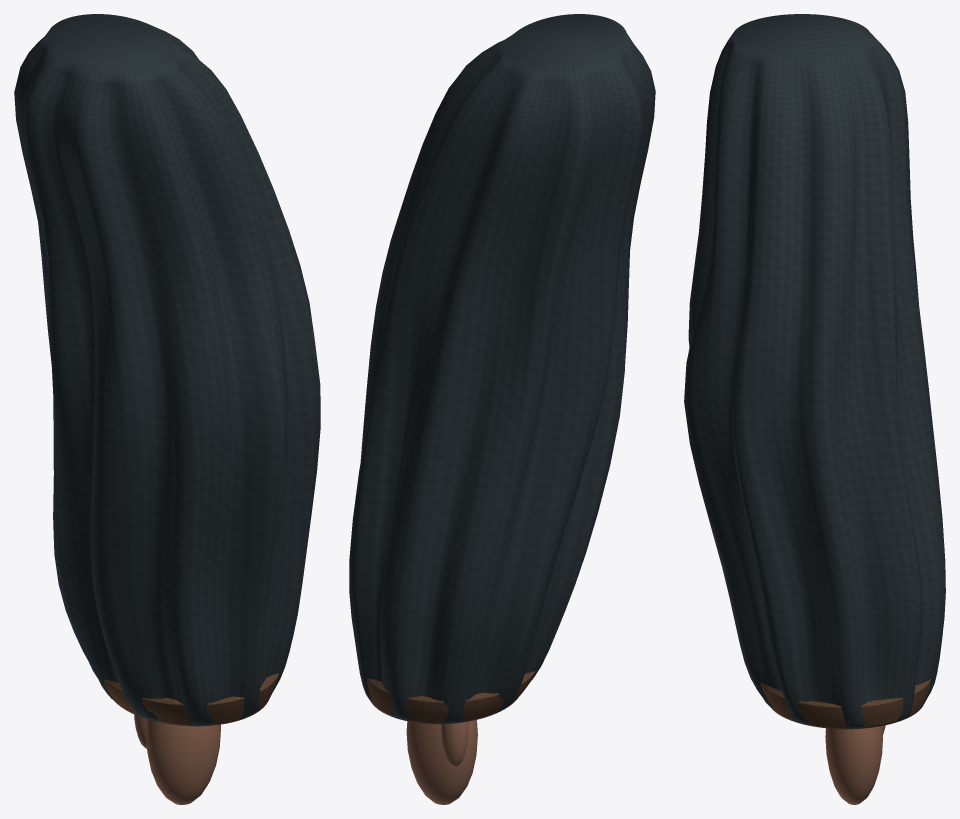
Rendered from PilgrimRightSleeve.glb.
3 renders of one model, left to right at view 1: azimuth 30°, elevation 25°; view 2: azimuth 150°, elevation 25°; view 3: azimuth 270°, elevation 25°, orthographic. The views are drawn at different scales.
Visible parts, largest first — view 1: PilgrimRightSleeve; view 2: PilgrimRightSleeve; view 3: PilgrimRightSleeve.
Boxes of the visible parts, x1=… form: PilgrimRightSleeve: x1=14, y1=14, x2=320, y2=804; PilgrimRightSleeve: x1=349, y1=14, x2=655, y2=804; PilgrimRightSleeve: x1=684, y1=14, x2=945, y2=804.
Size of the model in its own units: 0.2226 by 0.608 by 0.1997.
Materials: 3 (2 with a texture image).
